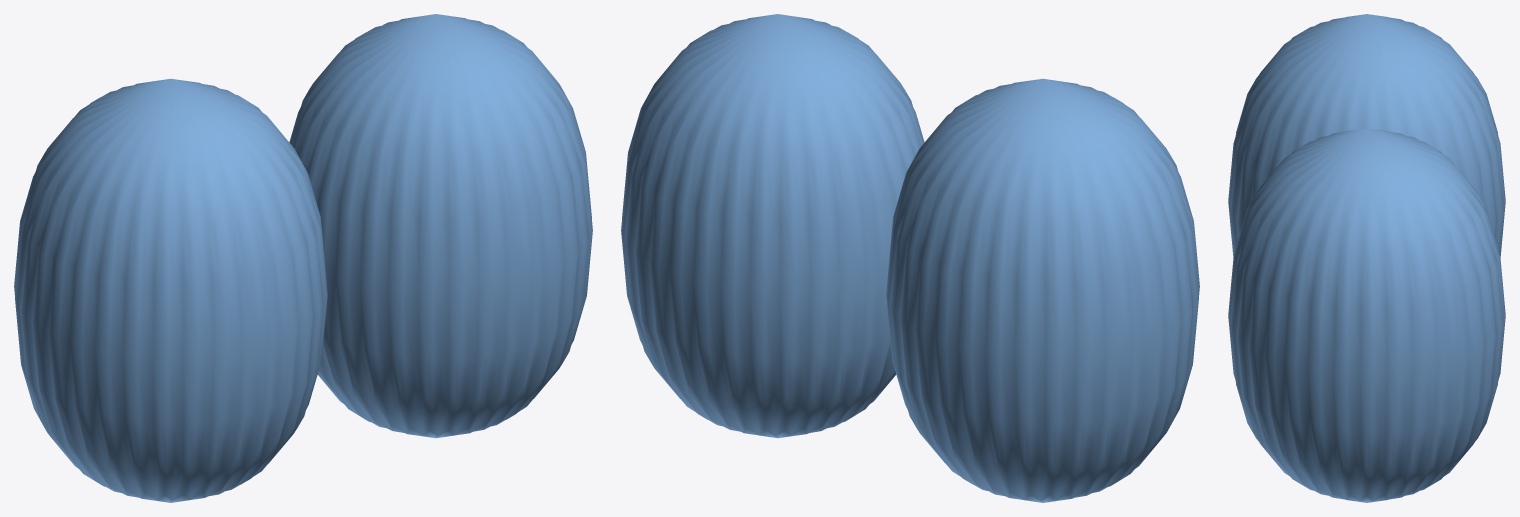
The model's file is outfit_shorts.glb.
3 renders of one model, left to right at view 1: azimuth 30°, elevation 25°; view 2: azimuth 150°, elevation 25°; view 3: azimuth 270°, elevation 25°, orthographic. The views are drawn at different scales.
Visible parts, largest first — view 1: Cylinder, Cylinder.001; view 2: Cylinder, Cylinder.001; view 3: Cylinder.001, Cylinder.
Part boxes in pixels (bbox=[...]): Cylinder: bbox=[14, 78, 327, 502]; Cylinder.001: bbox=[289, 14, 592, 438]; Cylinder: bbox=[886, 78, 1199, 502]; Cylinder.001: bbox=[621, 14, 924, 438]; Cylinder.001: bbox=[1228, 128, 1505, 502]; Cylinder: bbox=[1228, 14, 1505, 257].
Bounding box in the file's own units: 0.4458 × 0.3363 × 0.2258.
